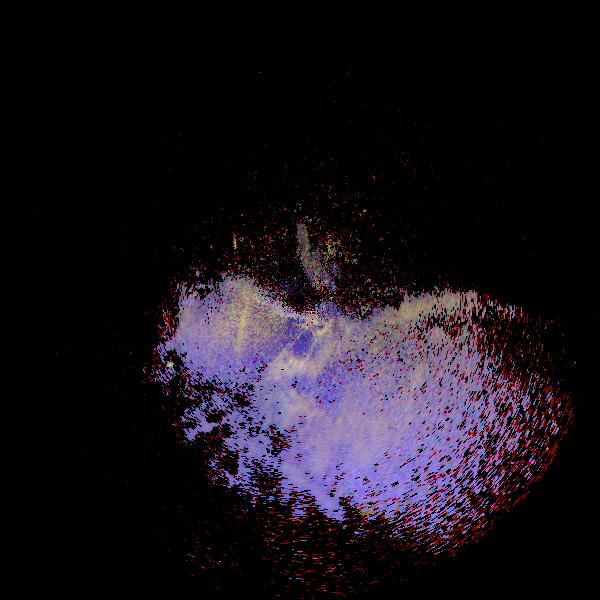roost: (166, 361, 175, 370)
